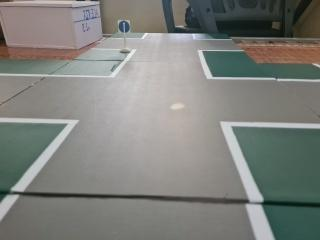straight: (115, 14, 132, 43)
